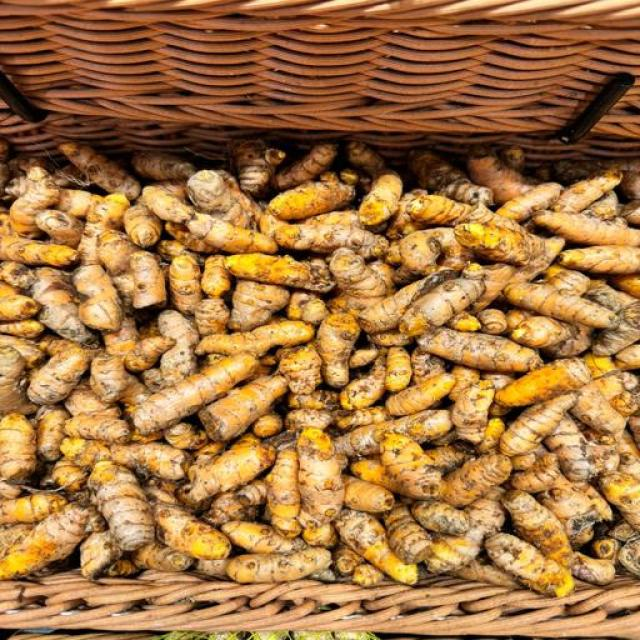organic: (1, 0, 640, 640), (0, 0, 639, 159)
